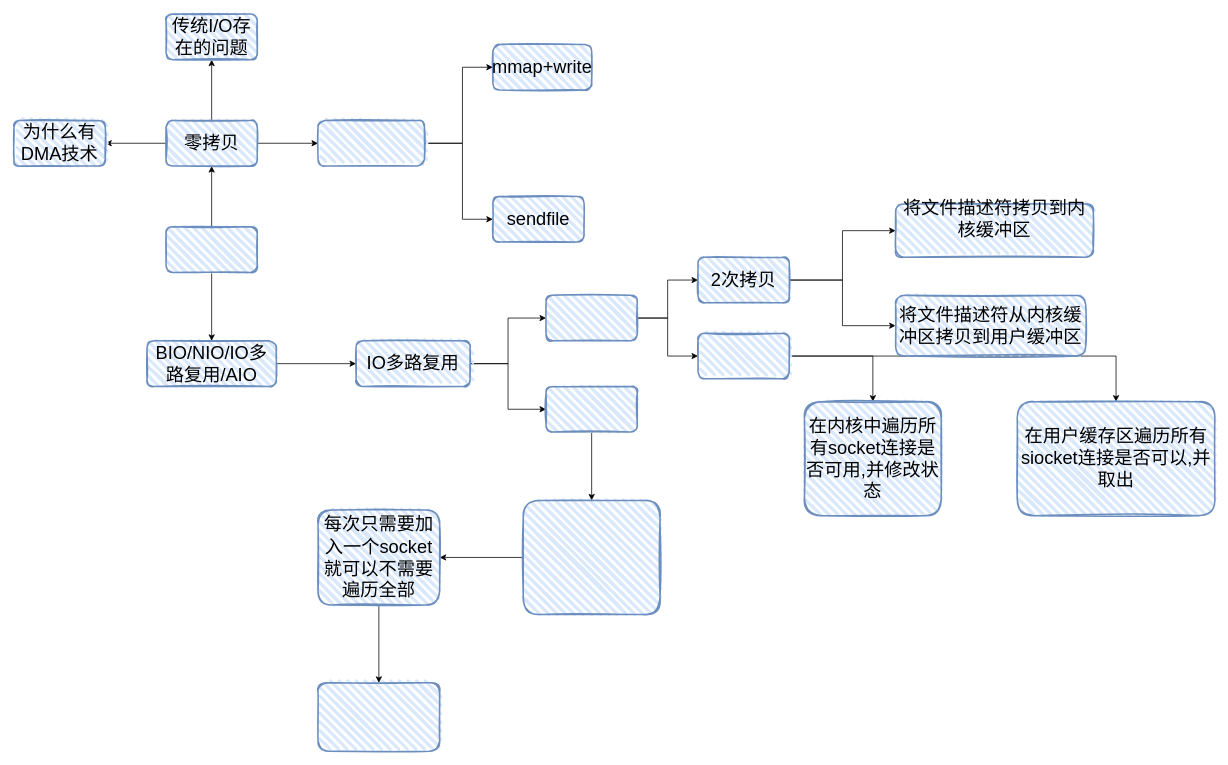
Some shapes in this 1228 by 765 pixel diagram are drawn without their labels. The shapes that lost their labels are listed below. From the top down, each one's box as (x1, y1, x2, y2) in pixels, then its label:
(317, 119, 425, 166): 实现零拷贝
(165, 226, 258, 273): IO
(545, 294, 638, 341): select/poll
(697, 332, 790, 379): 2次遍历
(545, 385, 638, 432): epoll
(522, 499, 660, 615): 使用红黑树记录文件描述符
(317, 682, 440, 752): 使用链表记录socket可用
